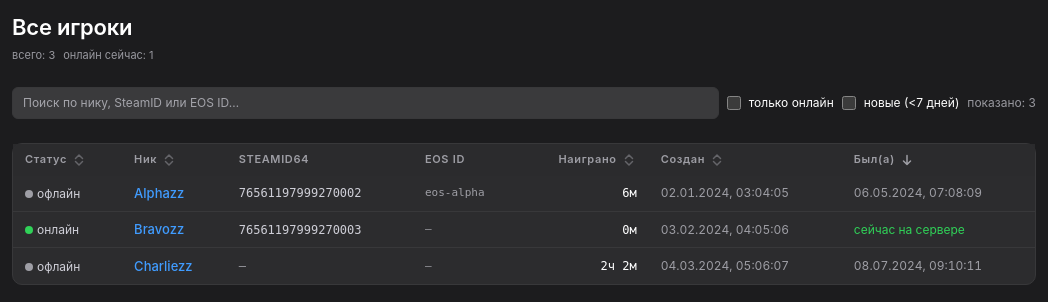
Test: PlayersPage › marks an online player and hides the offline ones behind только онлайн
Expected: the link "Alphazz" is shown, [134, 184, 184, 203]
Expected: the text "сейчас на сервере" is shown, [854, 222, 965, 237]
Click the checkbox labelled "только онлайн" at [734, 103], box [727, 96, 741, 110]
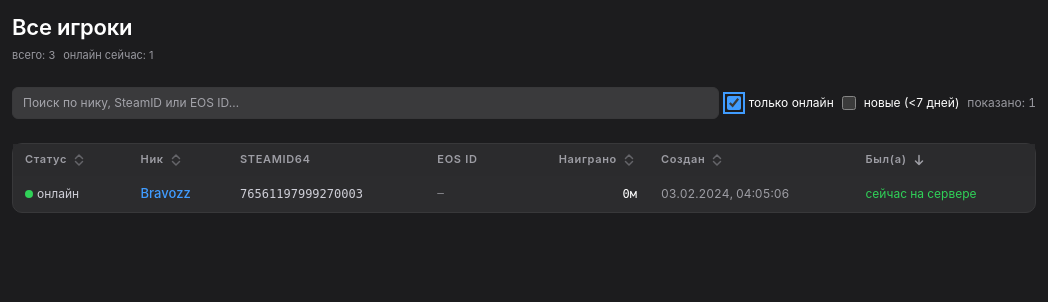
Expected: the link "Bravozz" is shown, [141, 184, 191, 203]
Now the link "Alphazz" is gone
